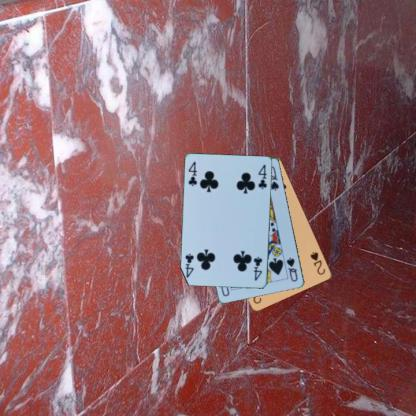2s: (308, 250, 326, 276)
4c: (186, 159, 198, 187), (252, 254, 263, 282)
Qs: (284, 255, 300, 283)
